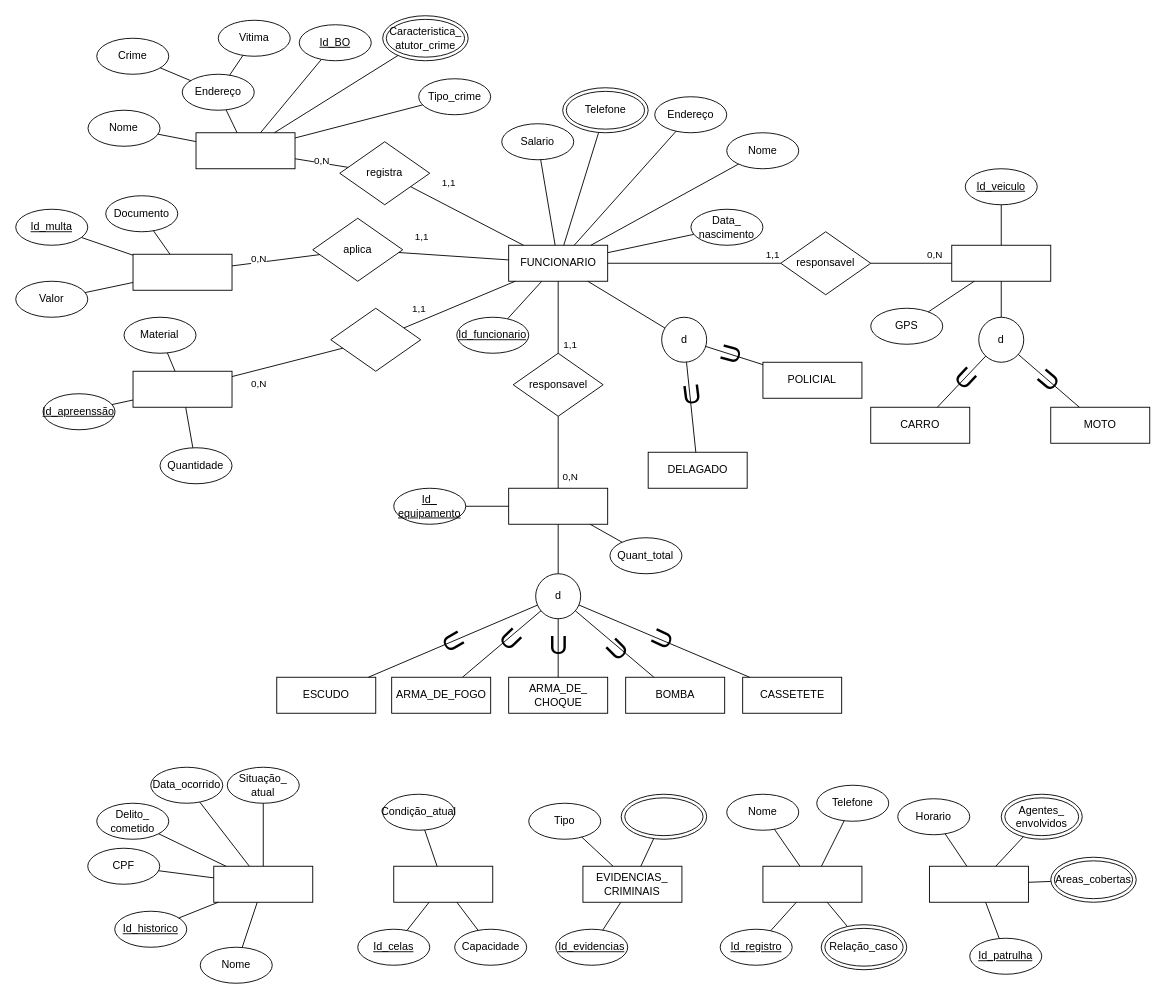
Some shapes in this 1166 by 999 pixel diagram are drawn without their labels. The shapes that lost their labels are listed below. From the top down, each one's box as (x1, y1, x2, y2) in pixels, then its label:
(195, 132, 295, 169): BO
(132, 253, 232, 290): MULTA
(951, 244, 1051, 281): VEICULO
(330, 307, 421, 371): realiza
(132, 370, 232, 407): APREENSÃO
(508, 487, 608, 524): EQUIPAMENTO
(620, 793, 707, 839): Casos_ associados
(213, 865, 313, 902): HISTORICO
(393, 865, 493, 902): CELAS
(762, 865, 862, 902): REGISTRO_ TESTEMUNHA
(929, 865, 1028, 902): CONTROLE_ PATRULHA
